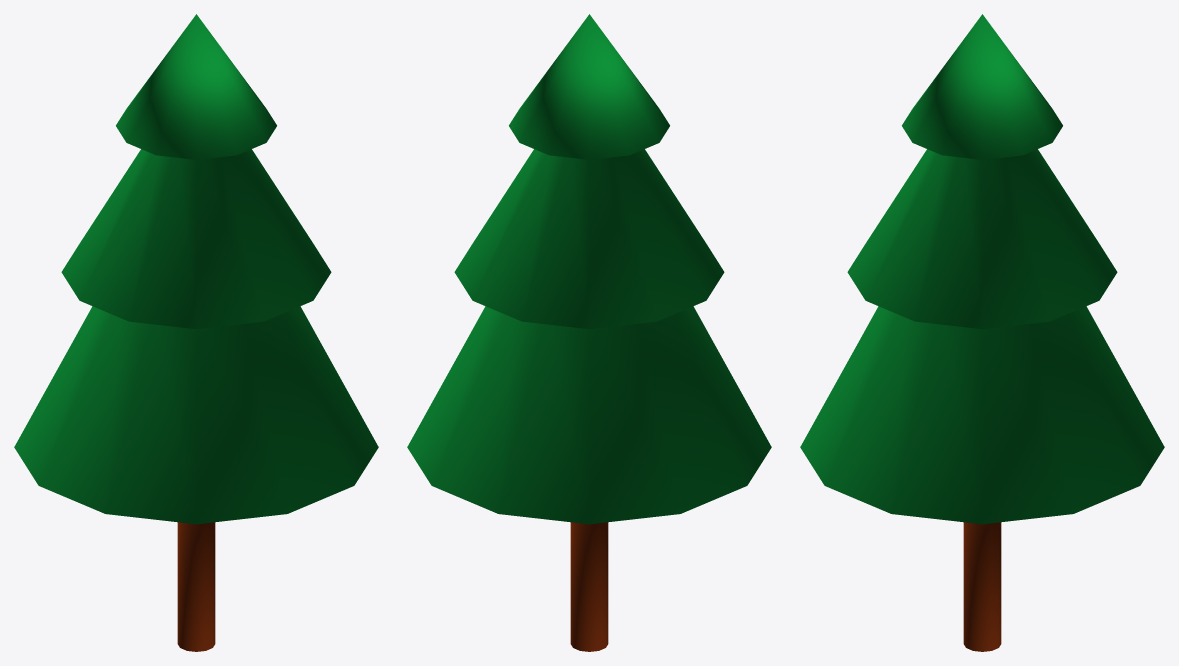
Rendered from godotTree.glb.
The picture shows the model from 3 angles, left to right: view 1: azimuth 30°, elevation 25°; view 2: azimuth 150°, elevation 25°; view 3: azimuth 270°, elevation 25°; orthographic projection.
Visible parts, largest first — view 1: Tree; view 2: Tree; view 3: Tree.
Boxes of the visible parts, x1,y1,x2,y2 form: Tree: (14,14,378,651); Tree: (407,14,771,651); Tree: (800,14,1164,651).
Size of the model in its own units: 8.92 by 17 by 8.92.
